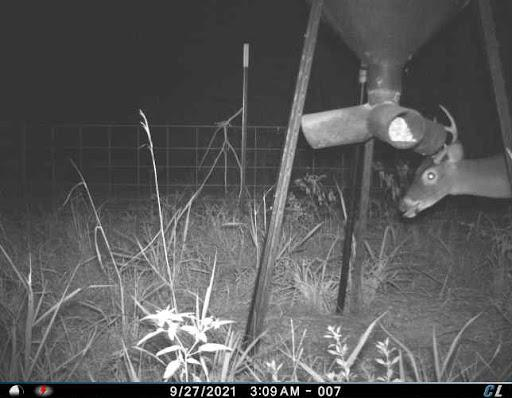Deer: (397, 97, 512, 229)
